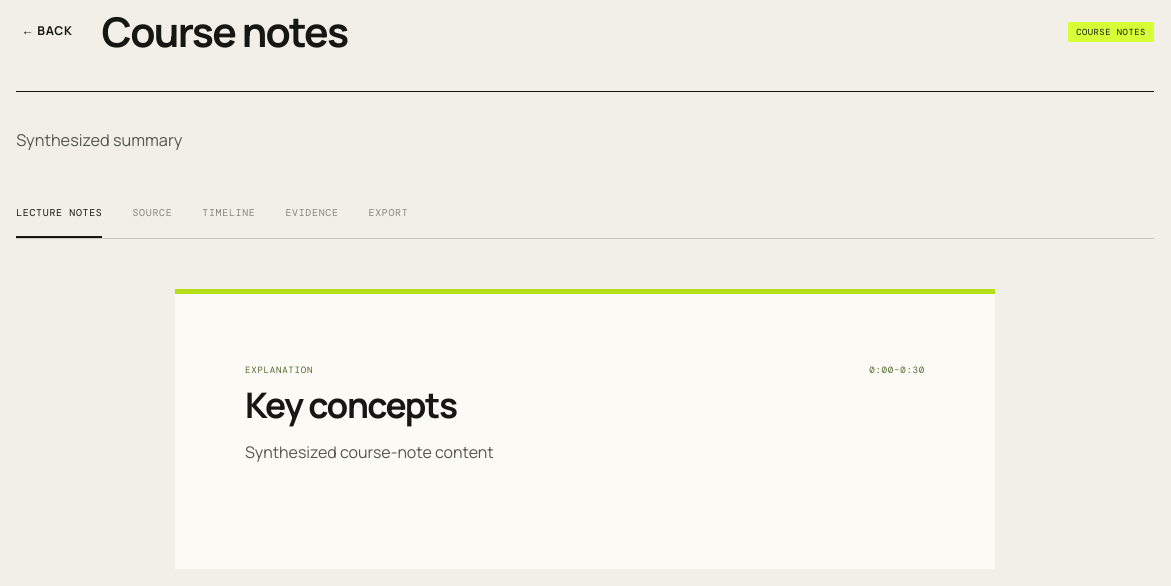
Test: processing and review workflows › shows the generated artifact before generic source blocks
Expected: the text "Synthesized course-note content" is shown, x1=245 y1=442 x2=494 y2=464
Expected: the text "Source block body" is not shown
Click the tab "Source": (152, 214) x1=132 y1=190 x2=172 y2=238
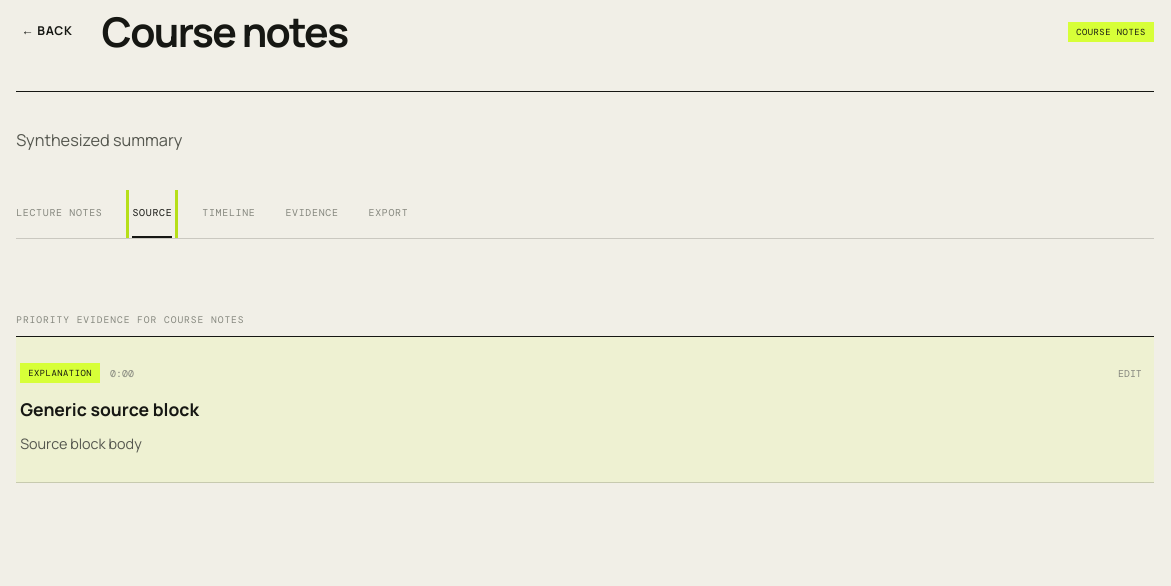
Result: the text "Source block body" is shown at x1=20 y1=434 x2=142 y2=453
